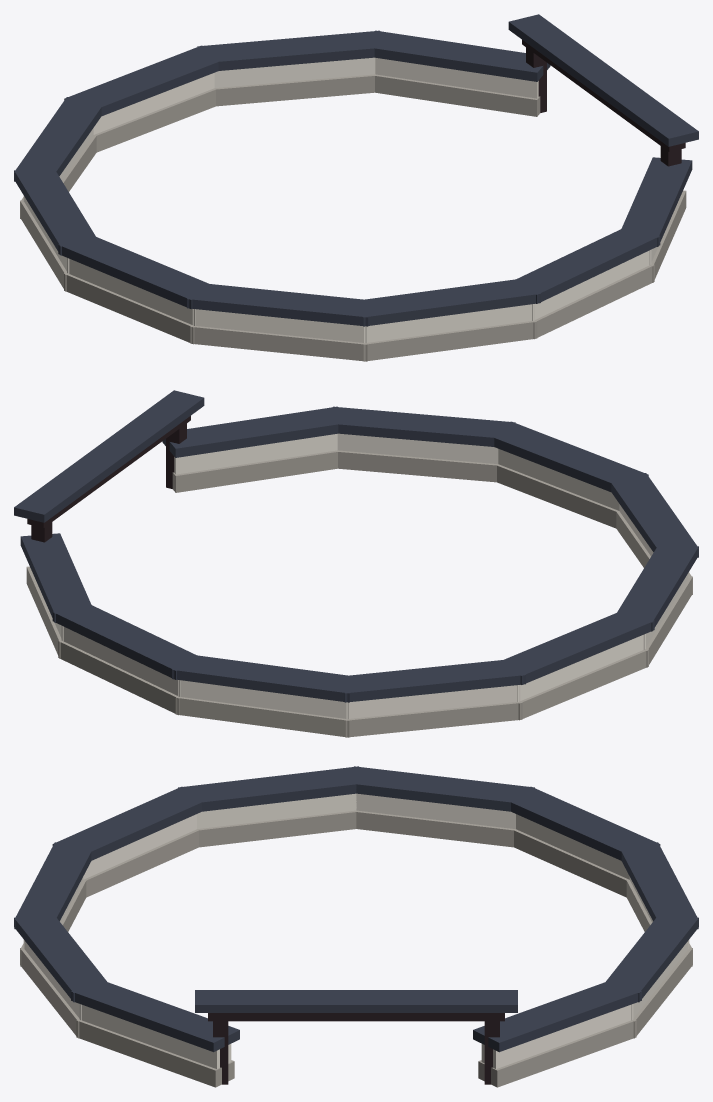
File: base_standard_walls_1.glb
3 views of the same model, one above another, from view 1: azimuth 30°, elevation 25°; view 2: azimuth 150°, elevation 25°; view 3: azimuth 270°, elevation 25° (orthographic).
Parts seen in each view (by area): view 1: gate_roof, wall_6_cap, wall_7_cap, wall_1_cap, wall_0_cap, wall_5_cap, wall_2_cap, wall_8_cap, wall_3_cap, wall_4_cap, wall_9_cap, wall_6 (+18 smaller); view 2: gate_roof, wall_3_cap, wall_2_cap, wall_8_cap, wall_9_cap, wall_7_cap, wall_4_cap, wall_1_cap, wall_6_cap, wall_0_cap, wall_3, wall_2 (+18 smaller); view 3: gate_roof, wall_4_cap, wall_5_cap, wall_0_cap, wall_9_cap, wall_3_cap, wall_6_cap, wall_8_cap, wall_7_cap, wall_2_cap, wall_1_cap, wall_4 (+20 smaller).
Boxes of the visible parts, x1=… form: gate_roof: x1=508, y1=14, x2=698, y2=146; wall_6_cap: x1=187, y1=282, x2=376, y2=326; wall_7_cap: x1=353, y1=277, x2=540, y2=326; wall_1_cap: x1=197, y1=30, x2=386, y2=70; wall_0_cap: x1=362, y1=30, x2=550, y2=81; wall_5_cap: x1=58, y1=233, x2=218, y2=308; wall_2_cap: x1=64, y1=45, x2=226, y2=115; wall_8_cap: x1=508, y1=227, x2=660, y2=303; wall_3_cap: x1=14, y1=97, x2=104, y2=181; wall_4_cap: x1=14, y1=170, x2=98, y2=255; wall_9_cap: x1=619, y1=157, x2=692, y2=246; wall_6: x1=190, y1=325, x2=367, y2=361; gate_roof: x1=14, y1=390, x2=204, y2=522; wall_3_cap: x1=337, y1=658, x2=525, y2=702; wall_2_cap: x1=172, y1=654, x2=361, y2=702; wall_8_cap: x1=325, y1=406, x2=515, y2=446; wall_9_cap: x1=162, y1=406, x2=350, y2=457; wall_7_cap: x1=484, y1=421, x2=648, y2=491; wall_4_cap: x1=501, y1=609, x2=654, y2=684; wall_1_cap: x1=52, y1=605, x2=205, y2=679; wall_6_cap: x1=608, y1=473, x2=698, y2=557; wall_0_cap: x1=20, y1=533, x2=93, y2=622; wall_3: x1=345, y1=701, x2=522, y2=737; wall_2: x1=175, y1=697, x2=350, y2=737; gate_roof: x1=195, y1=990, x2=517, y2=1012; wall_4_cap: x1=343, y1=766, x2=534, y2=811; wall_5_cap: x1=178, y1=766, x2=367, y2=811; wall_0_cap: x1=473, y1=978, x2=641, y2=1052; wall_9_cap: x1=71, y1=978, x2=239, y2=1052; wall_3_cap: x1=502, y1=786, x2=660, y2=860; wall_6_cap: x1=52, y1=786, x2=210, y2=860; wall_8_cap: x1=14, y1=916, x2=111, y2=1002; wall_7_cap: x1=14, y1=842, x2=93, y2=929; wall_2_cap: x1=619, y1=842, x2=698, y2=929; wall_1_cap: x1=602, y1=915, x2=698, y2=1002; wall_4: x1=351, y1=810, x2=519, y2=847.
Bounding box in the file's own units: 1.02 × 0.144 × 1.07.
